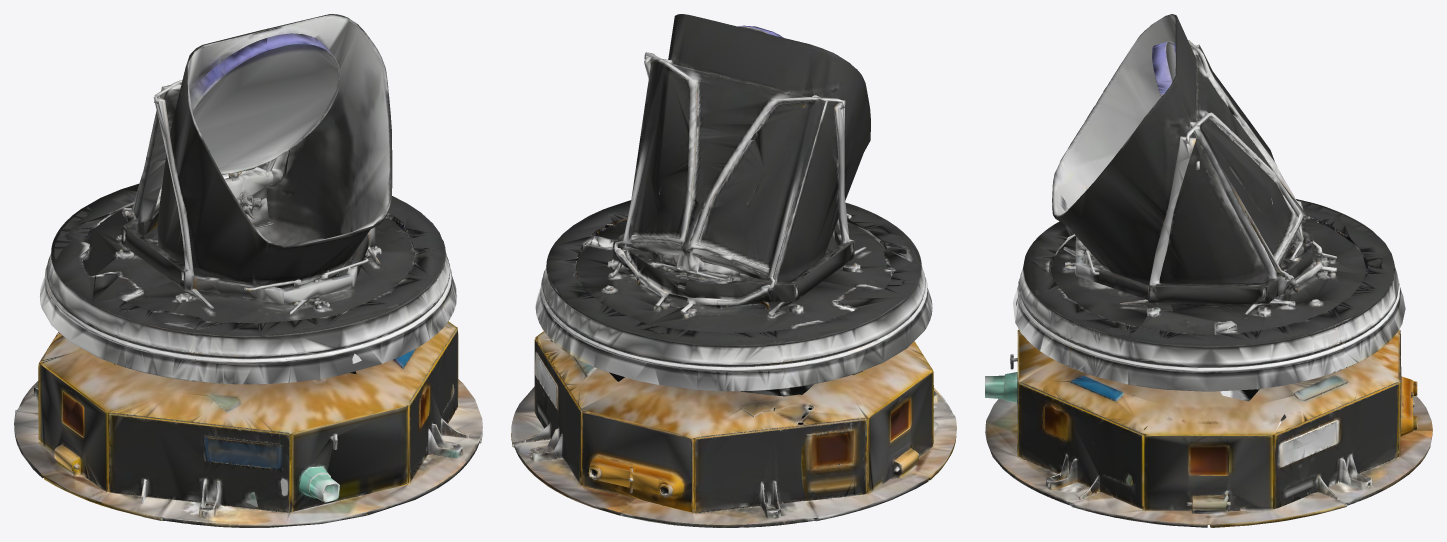
File: planck.glb
3 renders of one model, left to right at view 1: azimuth 30°, elevation 25°; view 2: azimuth 150°, elevation 25°; view 3: azimuth 270°, elevation 25°, orthographic. The views are drawn at different scales.
Bounding box in the file's own units: 1.9 × 1.84 × 1.9.
1 material, 1 textured.
